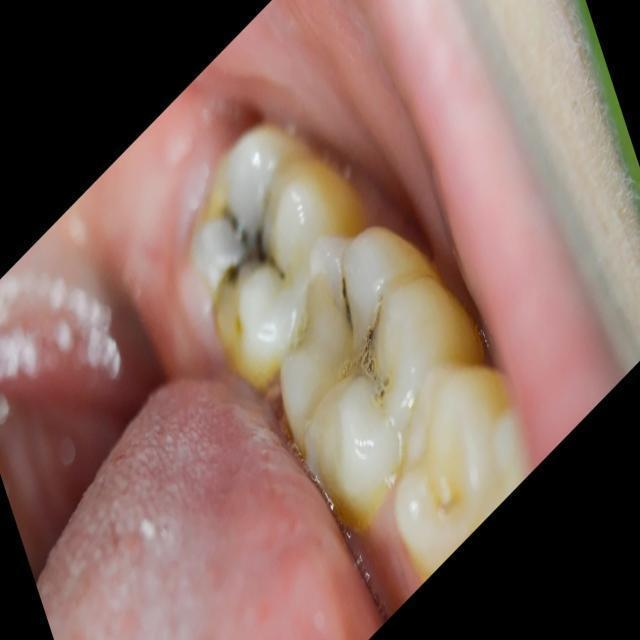Cavity: (295, 228, 428, 481), (197, 109, 317, 367), (391, 360, 477, 562)
